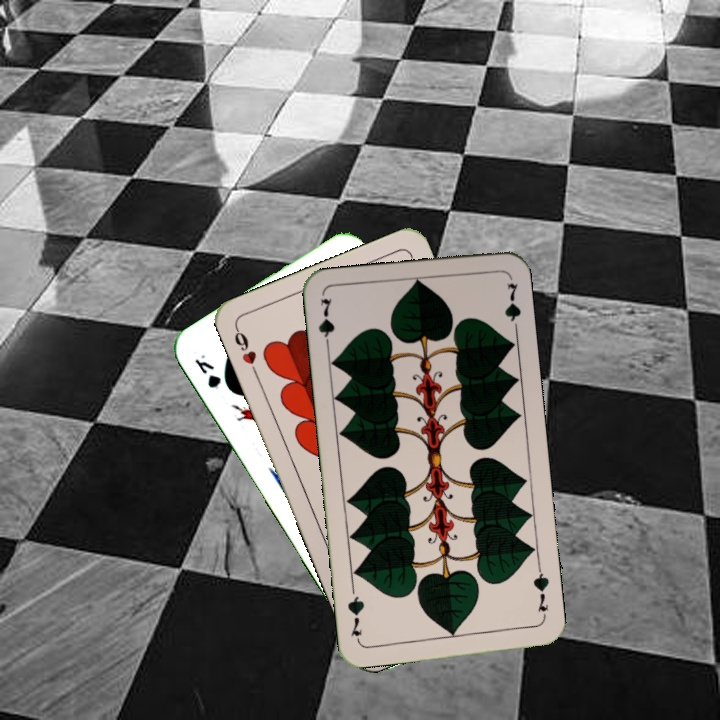G7: (314, 294, 337, 353), (529, 564, 552, 623)
GK: (190, 350, 224, 391)
H9: (230, 323, 261, 379)
